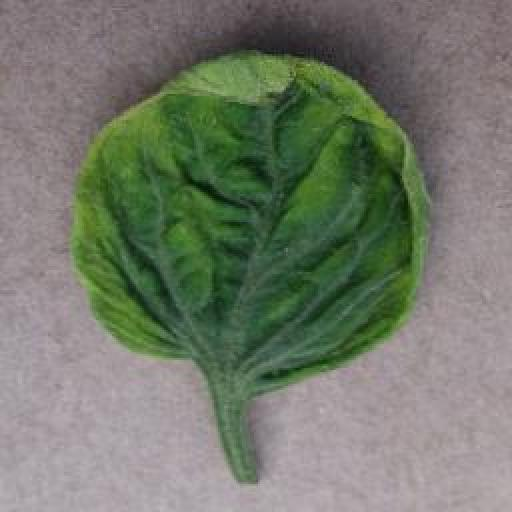Yellow Leaf Curl Virus: (72, 51, 433, 400)
